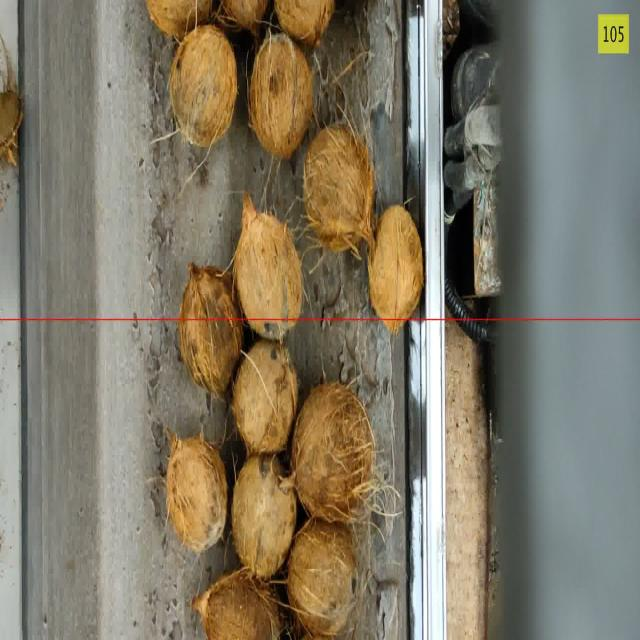Coconut-Conveyor-Belt: (292, 383, 374, 522), (234, 194, 303, 340), (304, 126, 374, 255), (179, 264, 242, 397), (287, 521, 357, 636), (170, 25, 237, 145), (232, 455, 296, 579), (249, 34, 312, 159), (232, 341, 298, 453), (166, 434, 227, 552), (369, 206, 423, 333), (191, 571, 282, 639), (0, 35, 23, 165), (275, 0, 334, 45), (146, 0, 212, 39), (218, 0, 269, 33), (0, 92, 23, 165)
